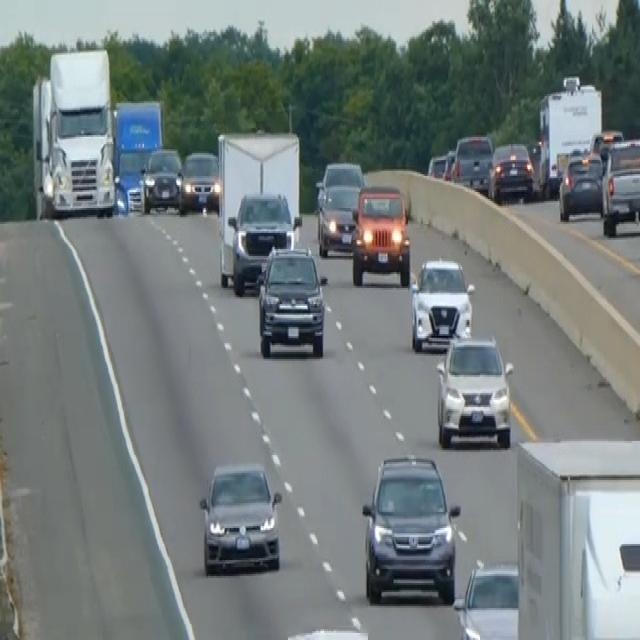car: (360, 452, 460, 604), (198, 459, 283, 576), (434, 332, 514, 450), (409, 254, 474, 352), (350, 183, 410, 286), (452, 558, 520, 638), (600, 135, 639, 235), (316, 181, 360, 256), (558, 150, 603, 220), (488, 138, 534, 202), (139, 144, 182, 212), (178, 148, 219, 214), (314, 158, 364, 212), (451, 132, 493, 194), (588, 126, 623, 164), (282, 626, 373, 638), (427, 151, 450, 180)
jeep: (255, 242, 328, 359)
lorry: (30, 46, 117, 220)
